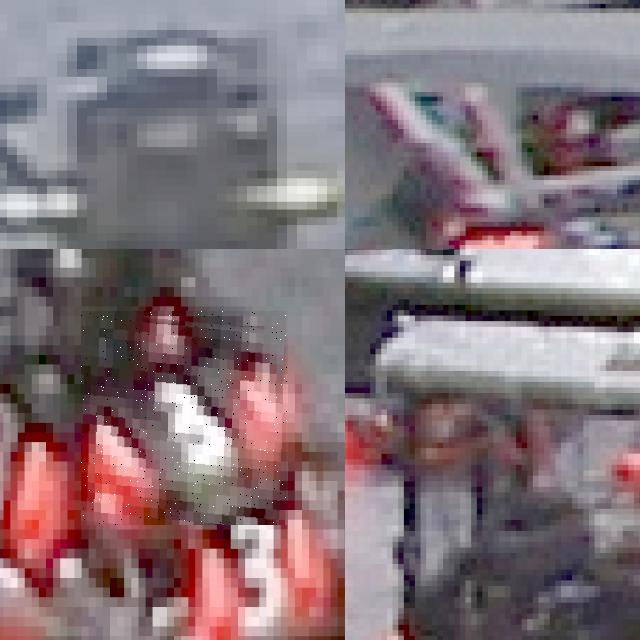R3: (81, 311, 288, 525), (163, 476, 326, 640), (0, 389, 63, 544)
